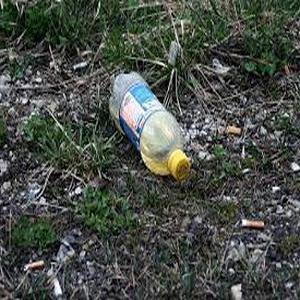Plastic: (108, 70, 191, 182)
